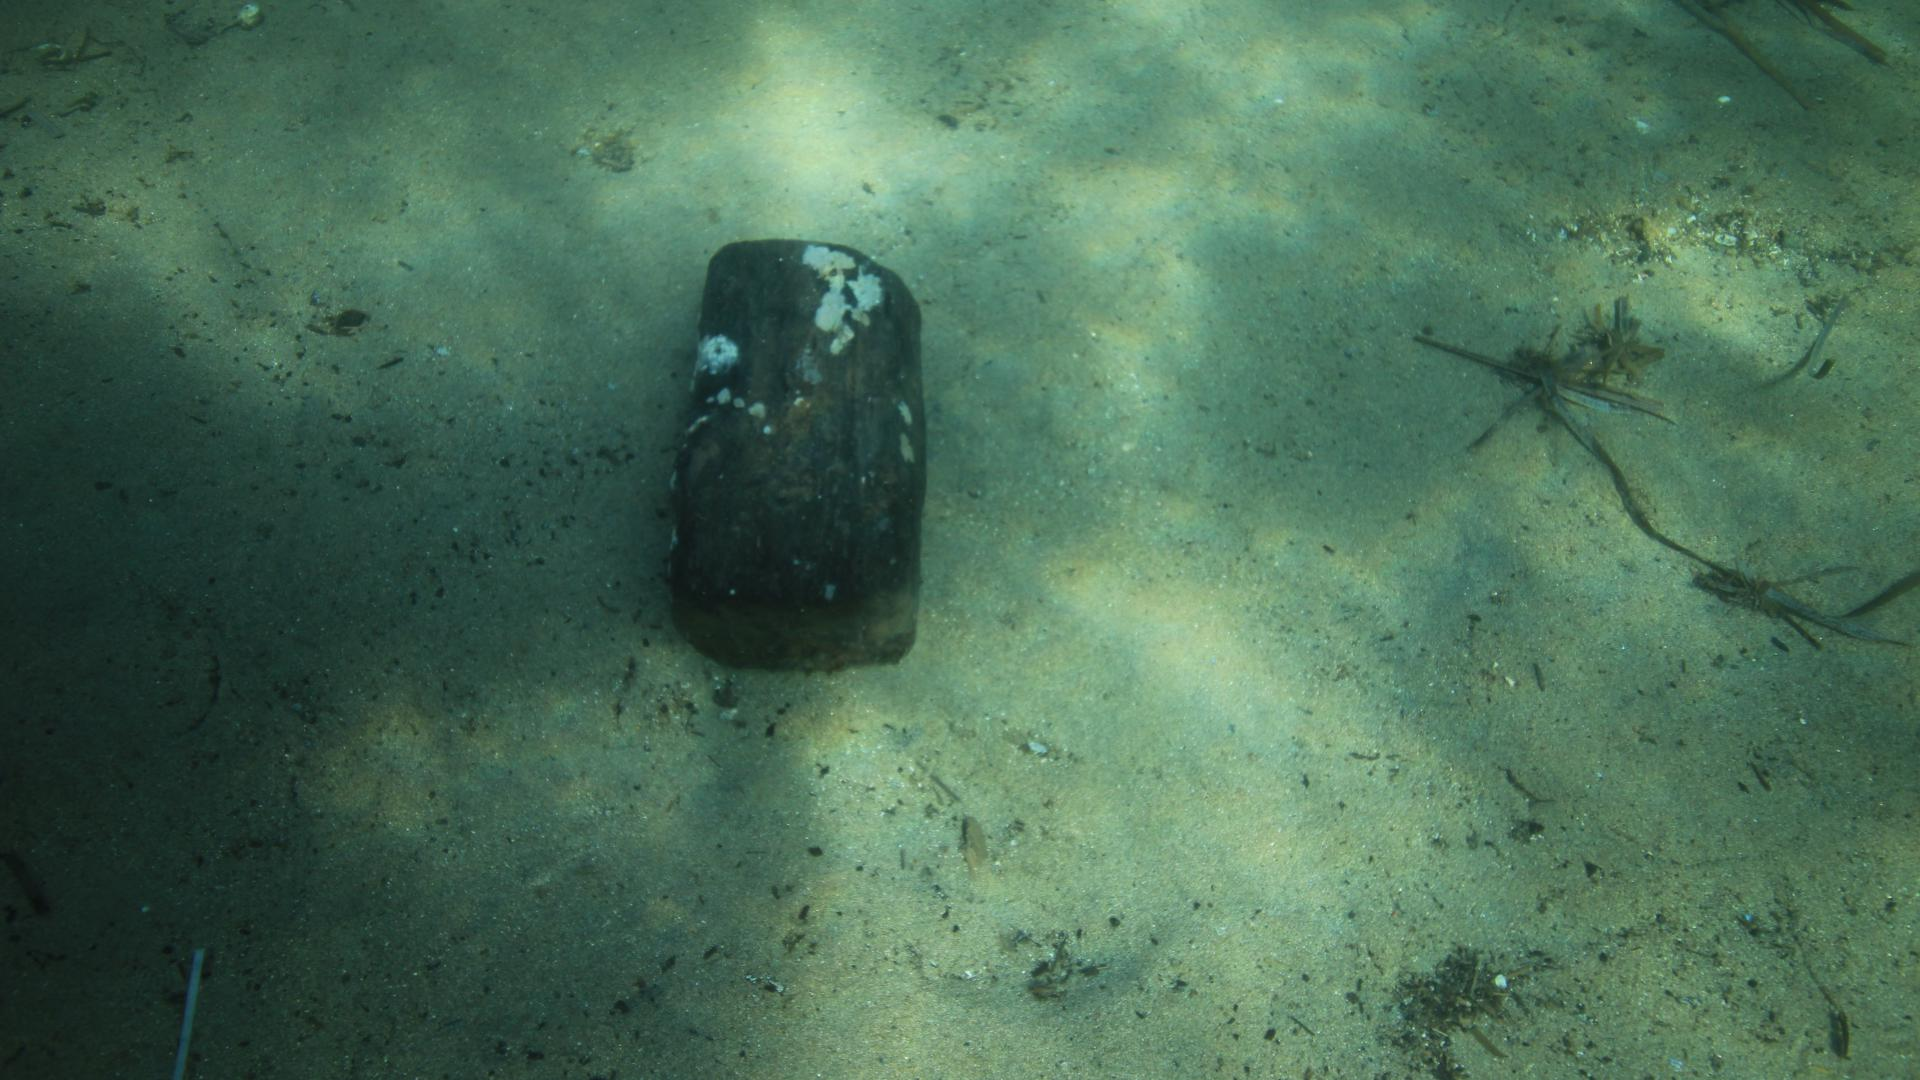wood: (667, 236, 928, 673)
